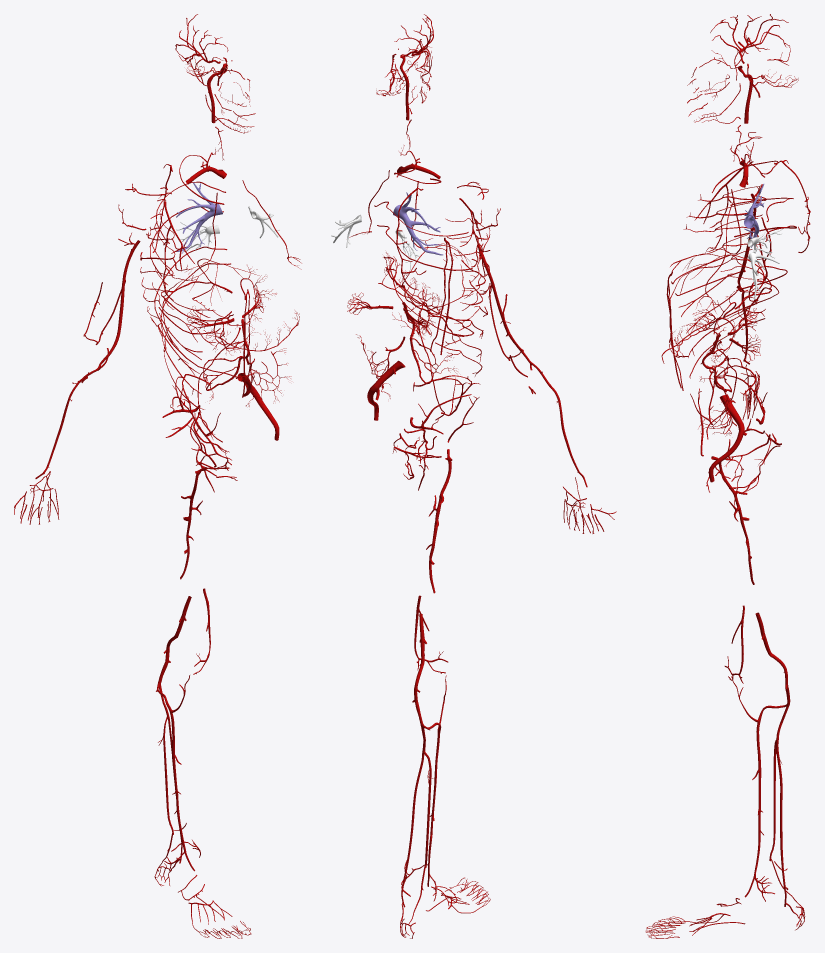
The model's file is cardiovascular-01.glb.
3 views of the same model, side by side, from view 1: azimuth 30°, elevation 25°; view 2: azimuth 150°, elevation 25°; view 3: azimuth 270°, elevation 25° (orthographic). The views are drawn at different scales.
Visible parts, largest first — view 1: ATLAS_Art_M2028, ATLAS_Hea_M12, ATLAS_Art_M4019; view 2: ATLAS_Art_M2028, ATLAS_Hea_M12, ATLAS_Art_M4004; view 3: ATLAS_Art_M2028, ATLAS_Art_M1109, ATLAS_Art_M4021, ATLAS_Art_M4019, ATLAS_Art_M4004, ATLAS_Art_M2202, ATLAS_Art_M4016, ATLAS_Art_M4043, ATLAS_Art_M4023, ATLAS_Hea_M12, ATLAS_Art_M2403.
Part boxes in pixels (x1,y1,x2,y2): ATLAS_Art_M2028: [140, 209, 215, 412]; ATLAS_Hea_M12: [176, 182, 222, 253]; ATLAS_Art_M4019: [156, 687, 194, 871]; ATLAS_Art_M2028: [435, 210, 491, 376]; ATLAS_Hea_M12: [393, 192, 443, 255]; ATLAS_Art_M4004: [426, 449, 452, 593]; ATLAS_Art_M2028: [669, 185, 765, 378]; ATLAS_Art_M1109: [710, 14, 790, 65]; ATLAS_Art_M4021: [774, 722, 804, 930]; ATLAS_Art_M4019: [744, 705, 785, 897]; ATLAS_Art_M4004: [711, 456, 754, 584]; ATLAS_Art_M2202: [683, 250, 771, 320]; ATLAS_Art_M4016: [755, 612, 790, 723]; ATLAS_Art_M4043: [645, 916, 688, 938]; ATLAS_Art_M4023: [769, 740, 794, 898]; ATLAS_Hea_M12: [744, 184, 764, 247]; ATLAS_Art_M2403: [690, 355, 756, 424].
Size of the model in its own units: 2.22 by 6.79 by 1.1.
